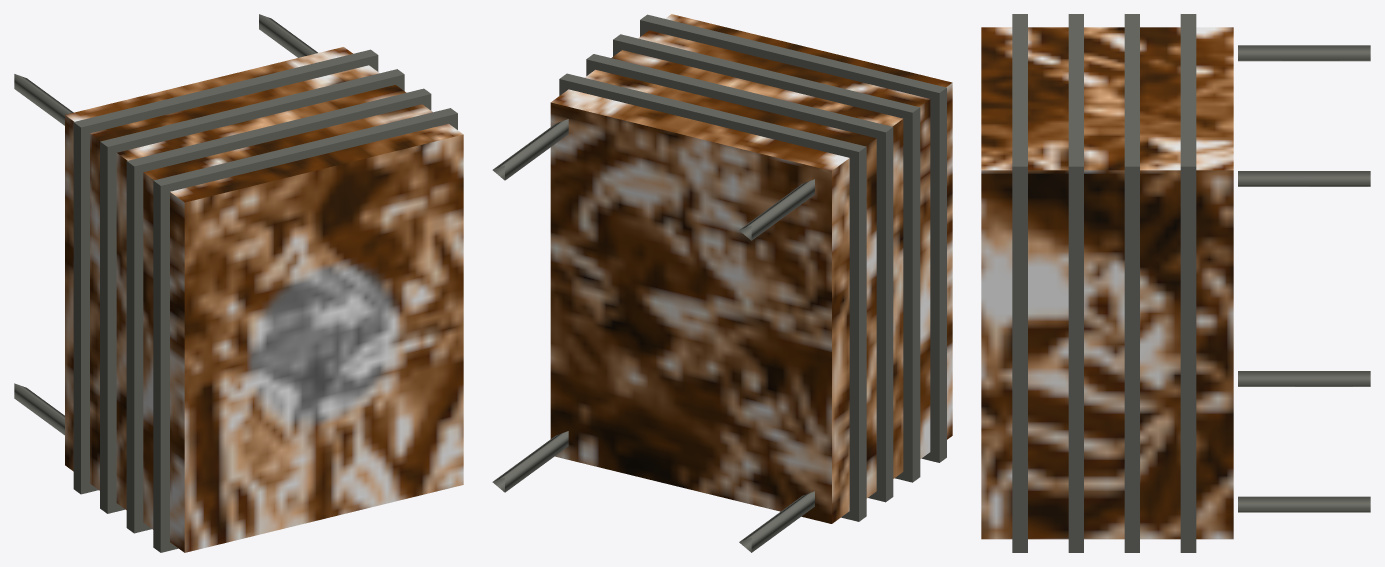
The model's file is sensor.DAE.
3 views of the same model, side by side, from view 1: azimuth 30°, elevation 25°; view 2: azimuth 150°, elevation 25°; view 3: azimuth 270°, elevation 25° (orthographic). The views are drawn at different scales.
Parts seen in each view (by area): view 1: Box01; view 2: Box01; view 3: Box01.
Part boxes in pixels (bbox=[...]): Box01: bbox=[14, 14, 463, 552]; Box01: bbox=[492, 14, 952, 552]; Box01: bbox=[981, 14, 1370, 552].
Size of what is drawn, in the model's own units: 0.2574 by 0.3037 by 0.2775.
